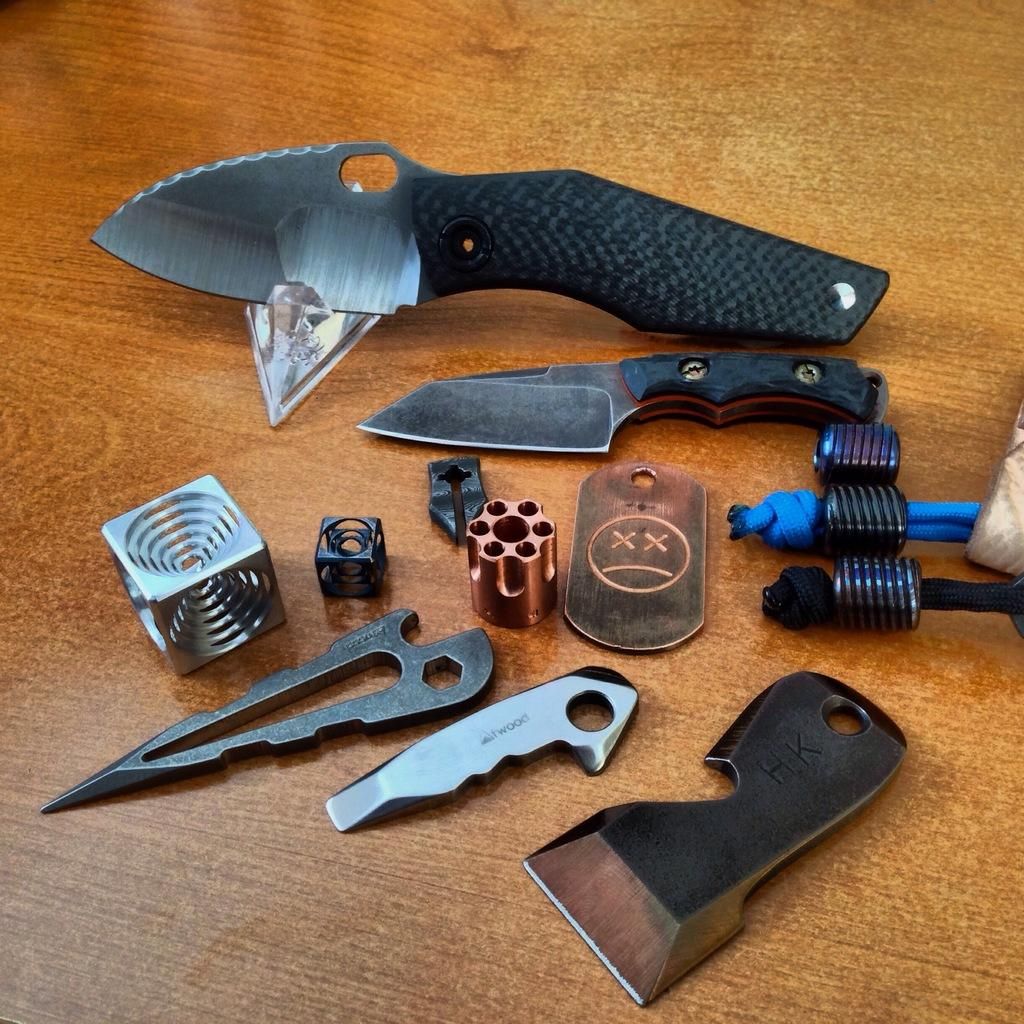Knife: (86, 135, 886, 435), (88, 137, 893, 428), (357, 349, 891, 462), (361, 349, 886, 461)
